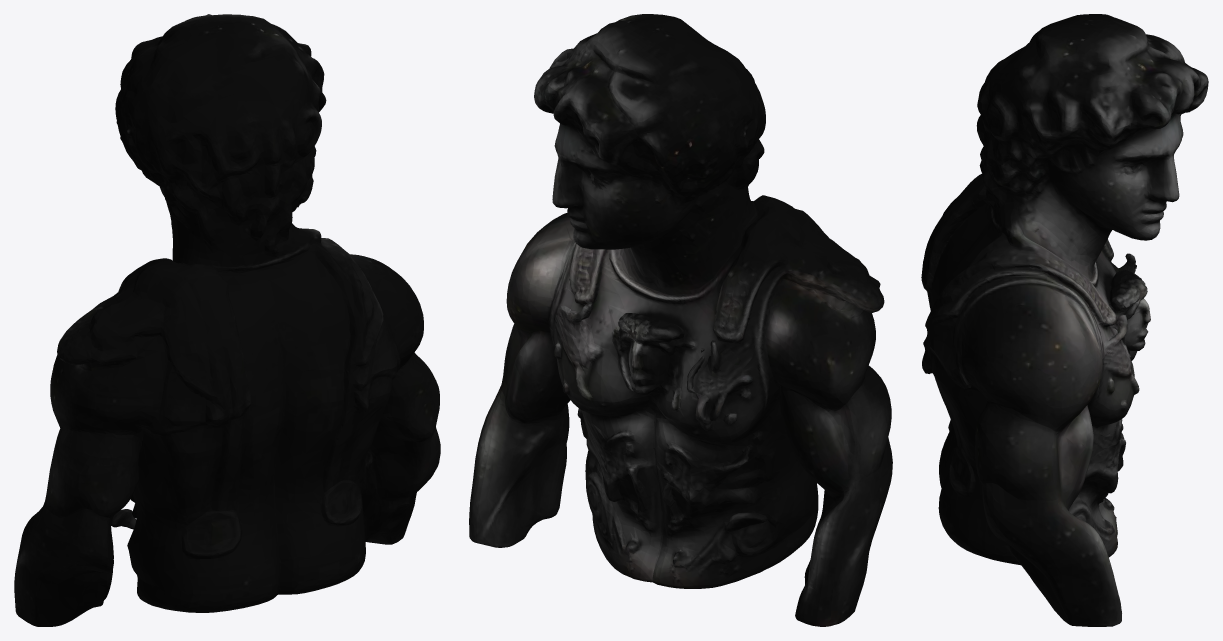
The model's file is statue.glb.
3 views of the same model, side by side, from view 1: azimuth 30°, elevation 25°; view 2: azimuth 150°, elevation 25°; view 3: azimuth 270°, elevation 25° (orthographic). The views are drawn at different scales.
Parts seen in each view (by area): view 1: geometry_0; view 2: geometry_0; view 3: geometry_0.
Boxes of the visible parts, x1,y1,x2,y2 form: geometry_0: (14, 14, 440, 626); geometry_0: (469, 14, 892, 626); geometry_0: (921, 14, 1208, 626).
Size of the model in its own units: 0.7426 by 0.9993 by 0.4987.
1 material, 1 textured.
